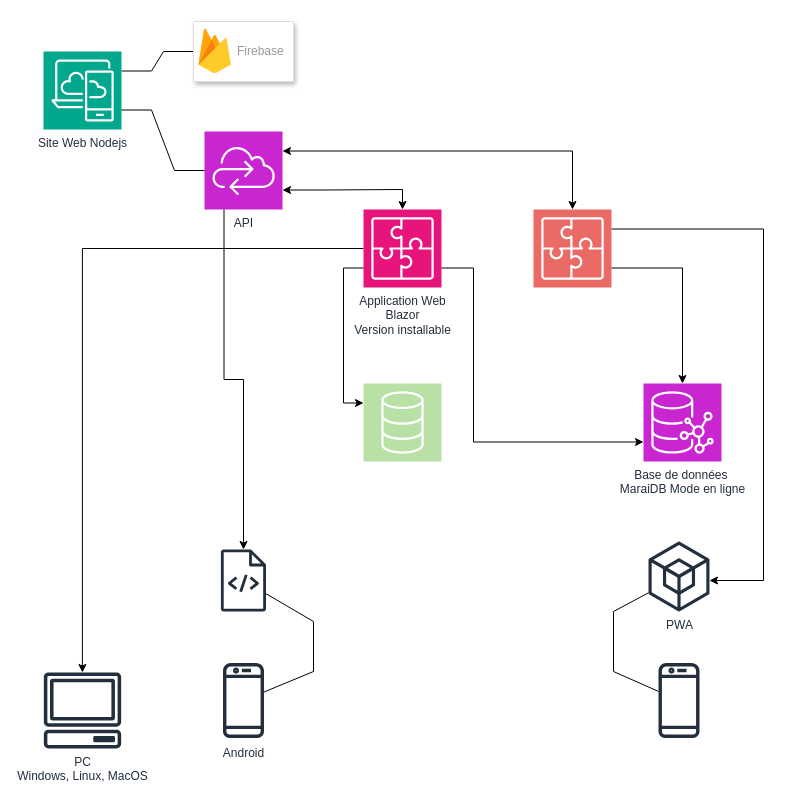
This 789x802 diagram has some shape labels left out. The shapes that lost their labels are listed below. From the top down, each one's centre as x and y in pixels, then its label:
pixel 572 248: Application Web Blazor
pixel 402 422: Base de donnés SQLite Mode hors ligne
pixel 243 580: Application Kotlin WebView
pixel 678 700: Android et IOS
